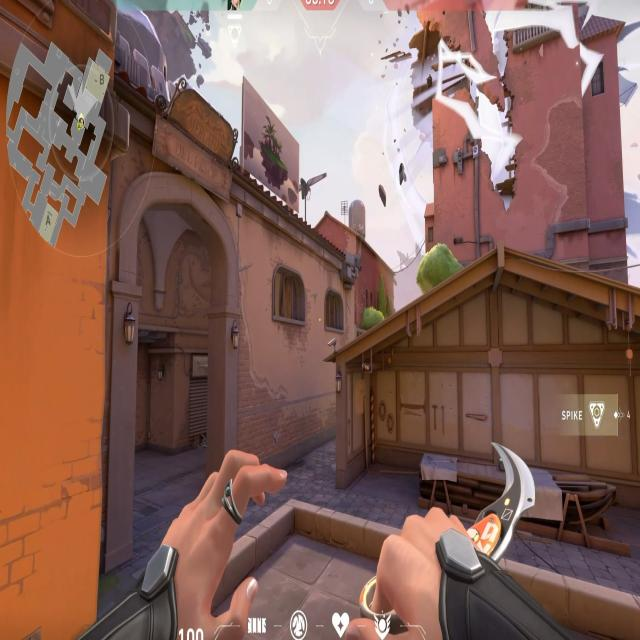B_Garage_Left: (334, 353, 432, 499)
B_Garage_Right: (596, 353, 640, 532)
Throwables: (268, 269, 308, 326), (323, 286, 346, 332)
